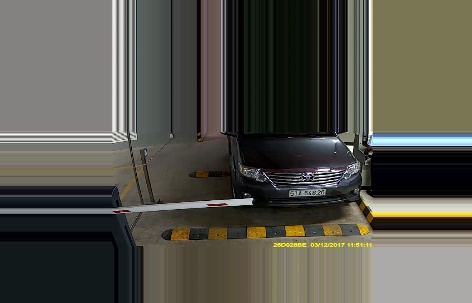plate: (286, 185, 325, 196)
